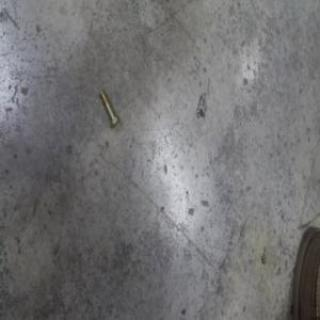Bolttrack_idkeyframe: (97, 86, 118, 129)
